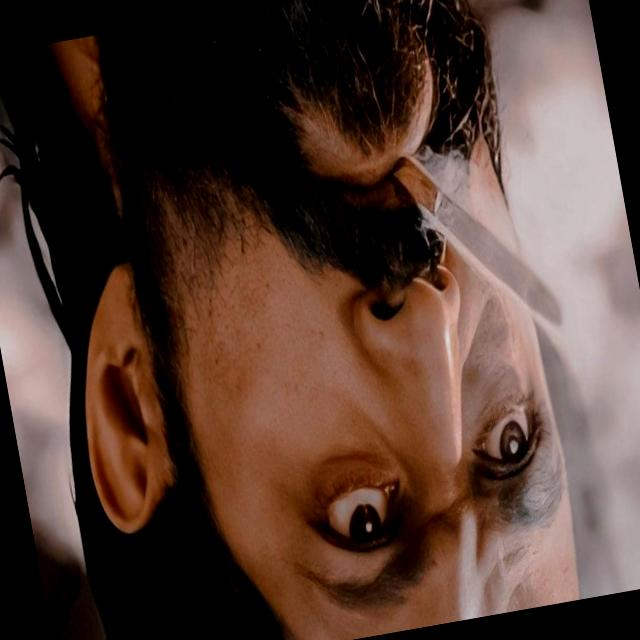smoke: (401, 138, 562, 352)
